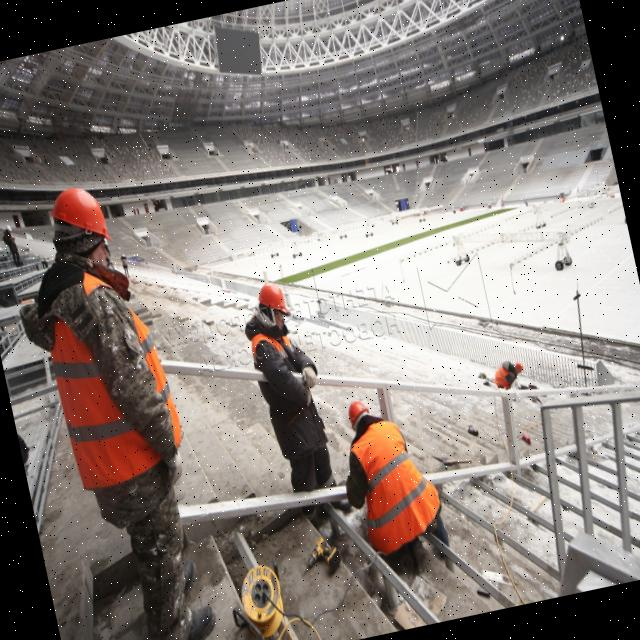Helmet: (45, 180, 117, 255), (254, 280, 294, 324), (345, 397, 374, 427), (514, 360, 526, 375)
Jacket: (37, 253, 172, 504), (250, 325, 326, 467), (351, 423, 434, 545), (496, 366, 519, 389)
